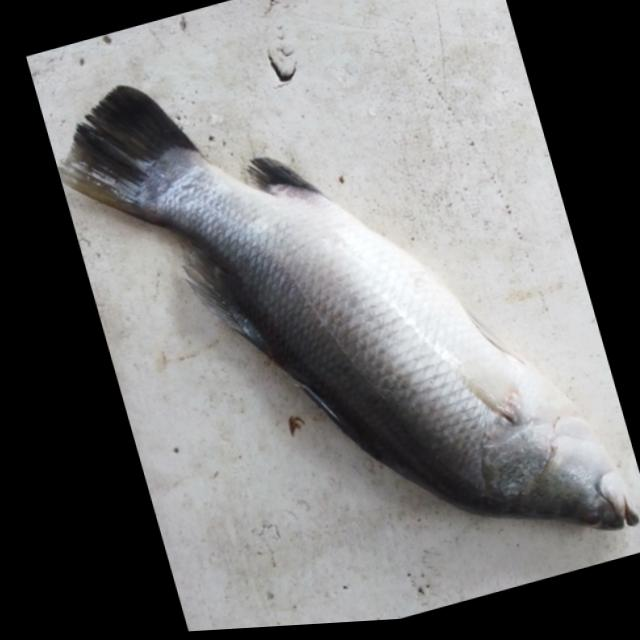Seabass: (31, 0, 640, 638)
